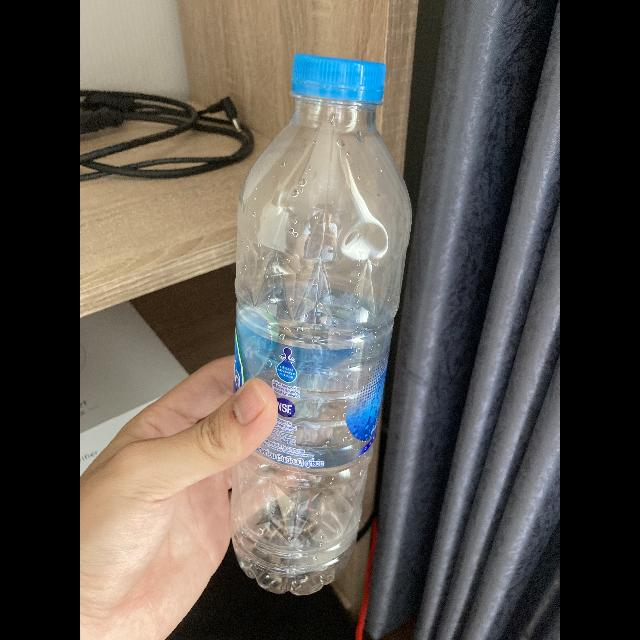plastic_bottle: (230, 48, 418, 606)
plastic_bottle_cap: (288, 51, 388, 108)
